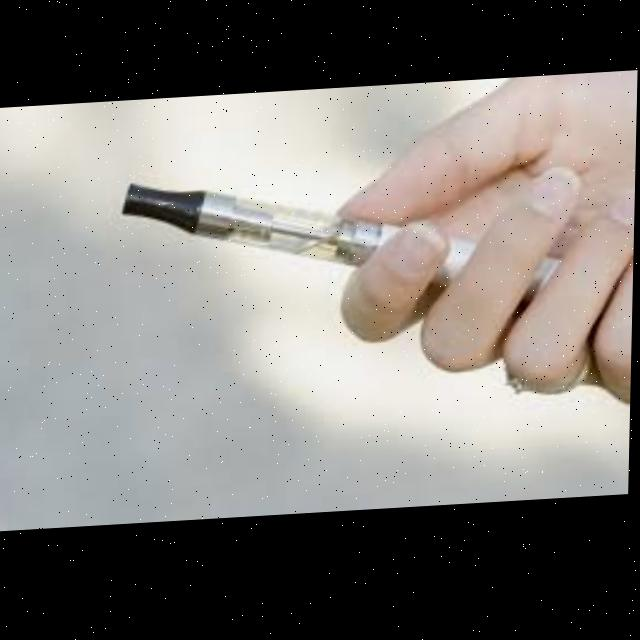vape: (119, 165, 560, 329)
